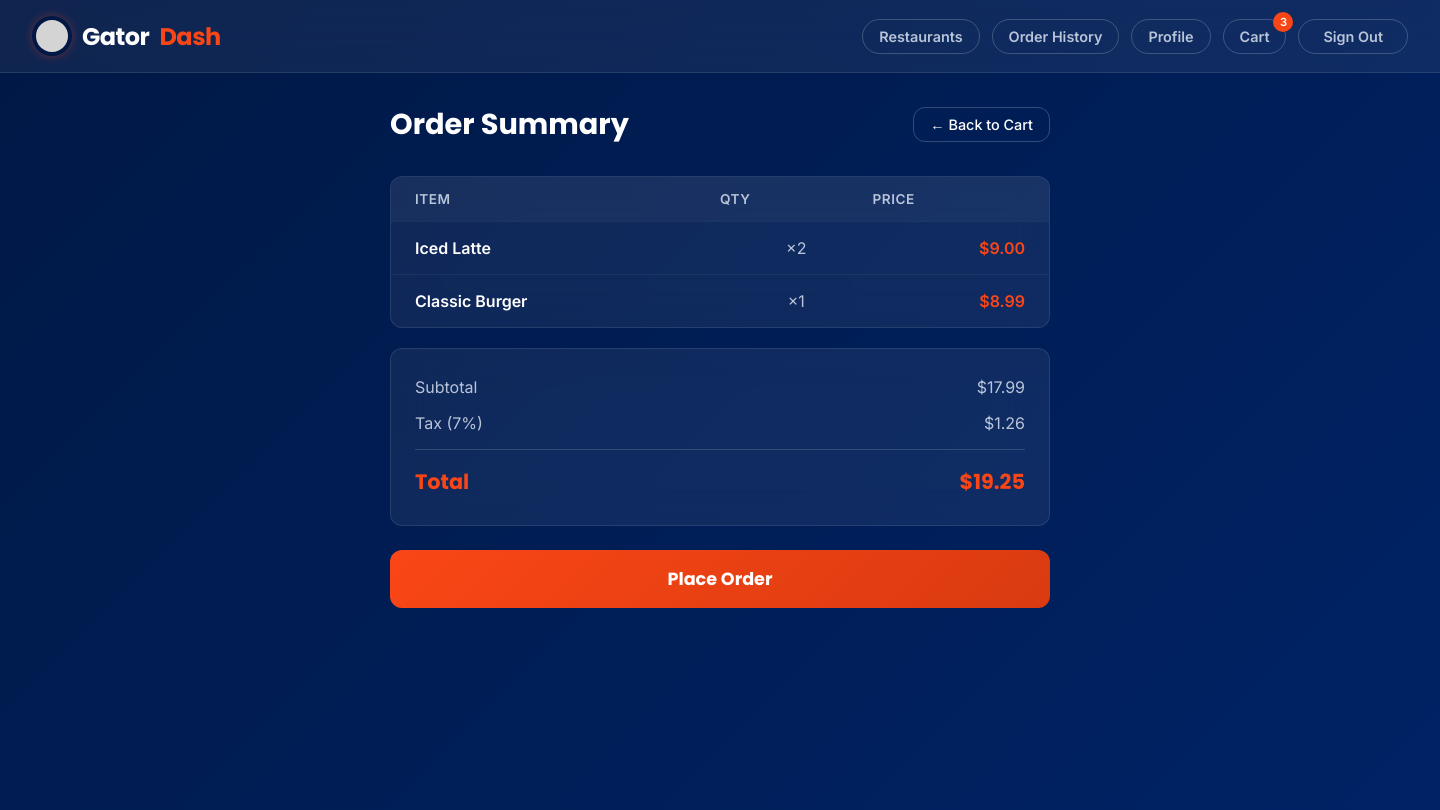
Test case: OrderSummary Component › shows order confirmation with number after placing order
This screenshot has width=1440, height=810.
Step 1. Click the button "Place Order" → (720, 579), box [390,550,1050,608]
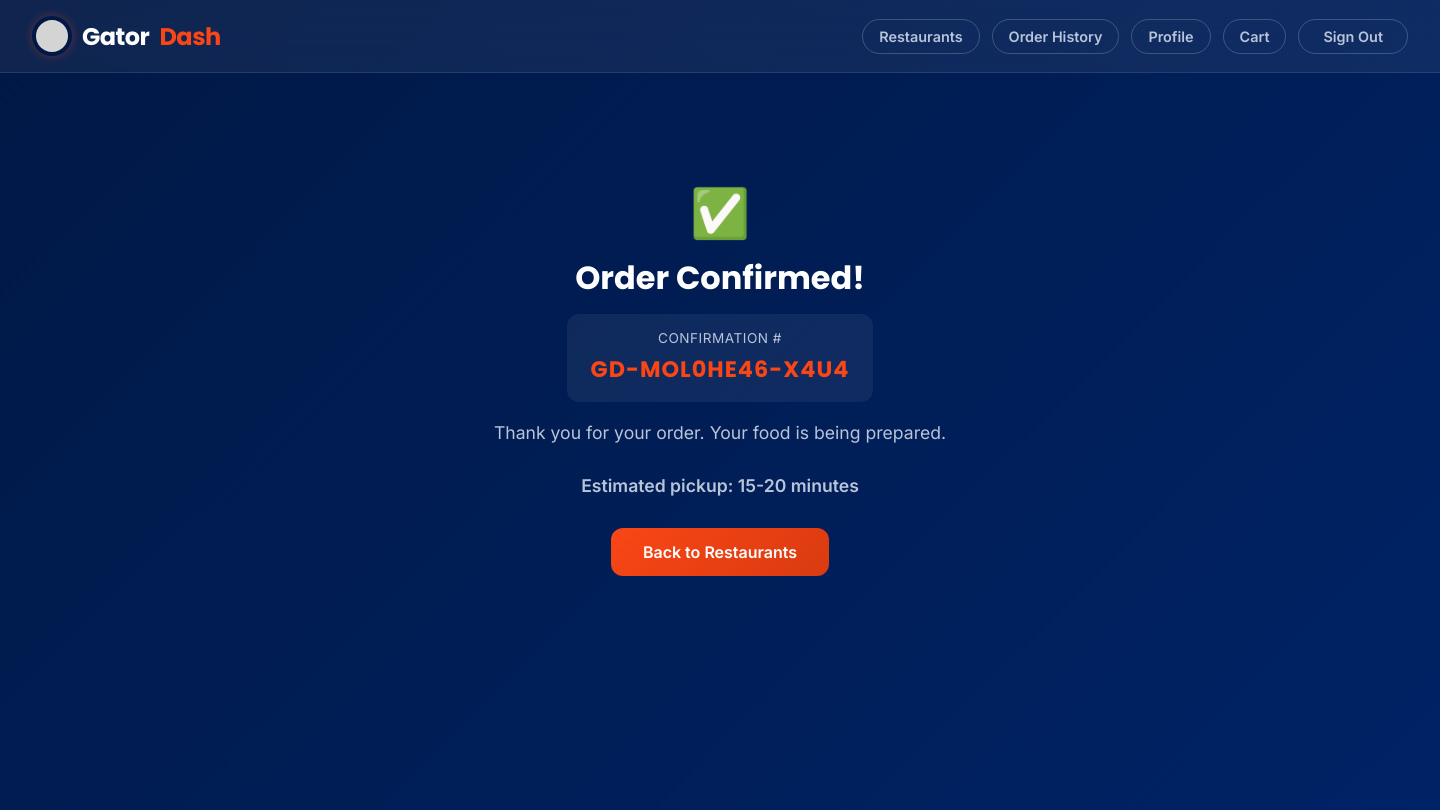
Expected: the heading "Order Confirmed!" is shown, [575,255,865,300]
Expected: the text "Confirmation #" is shown, [658,330,782,346]
Expected: the text "GD-" is shown, [591,352,849,386]
